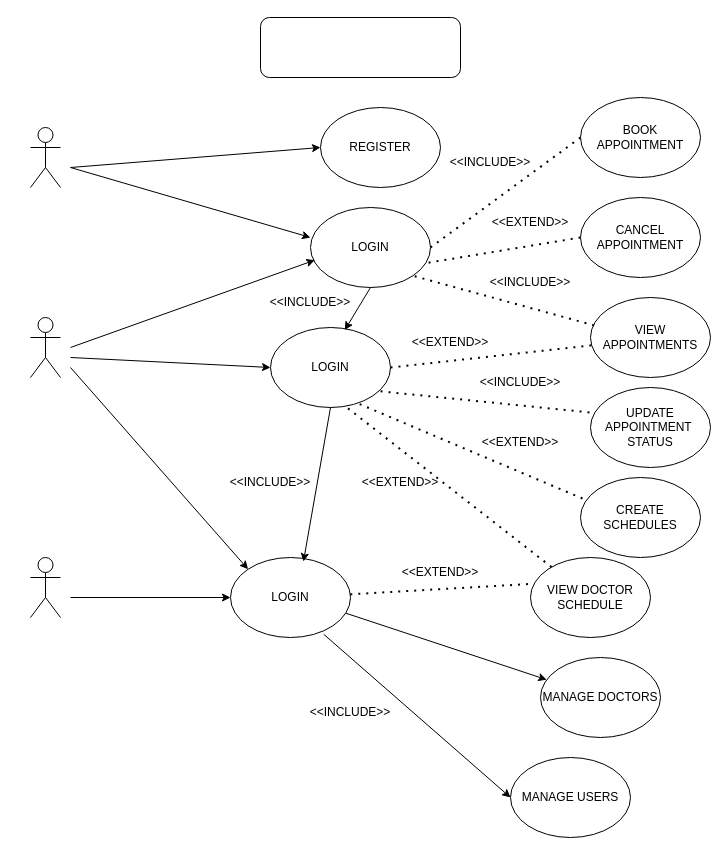
This 728x855 diagram has some shape labels left out. Each missing label, with the centre of its shape:
ADMIN: the point at 45,587
DOCTOR: the point at 45,347
STUDENT: the point at 45,157
University Clinic System: the point at 360,47
